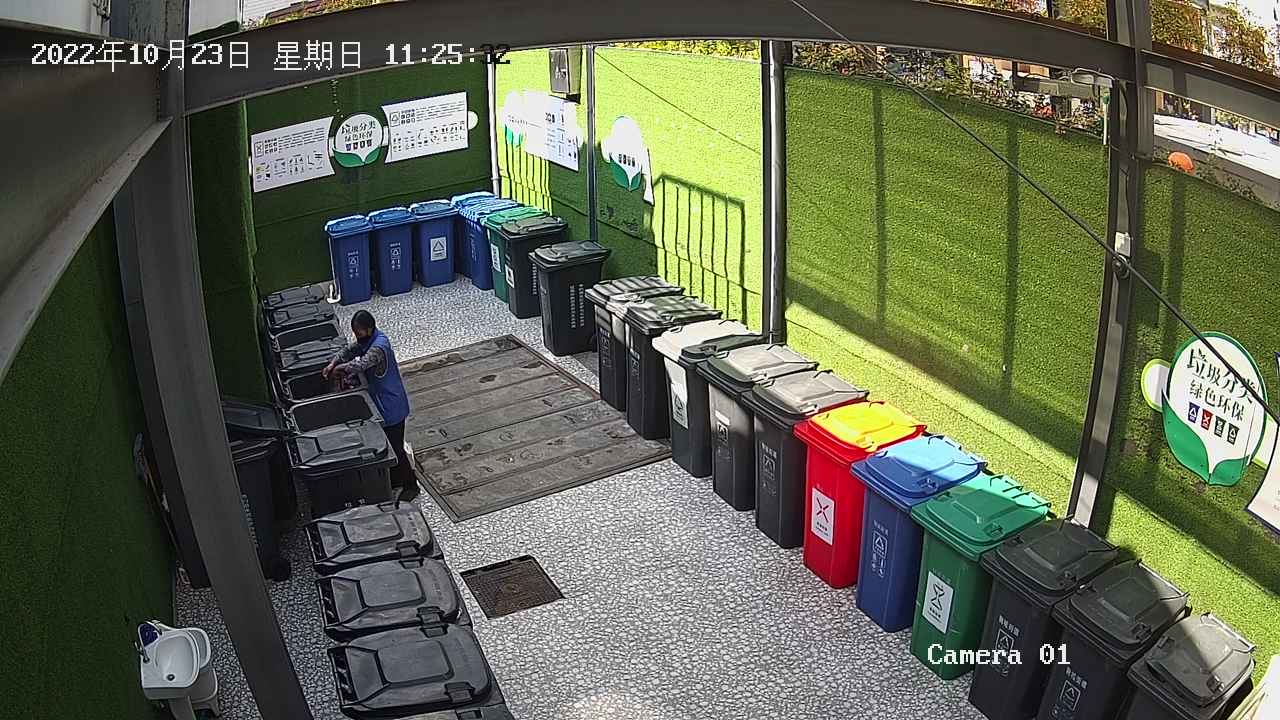worker: (315, 306, 420, 502)
